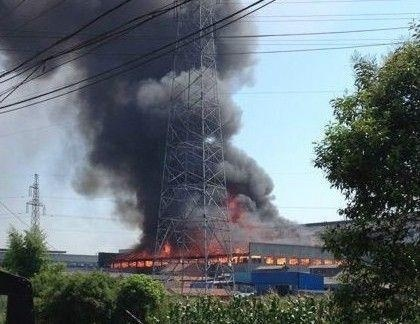fire: (124, 239, 339, 270)
